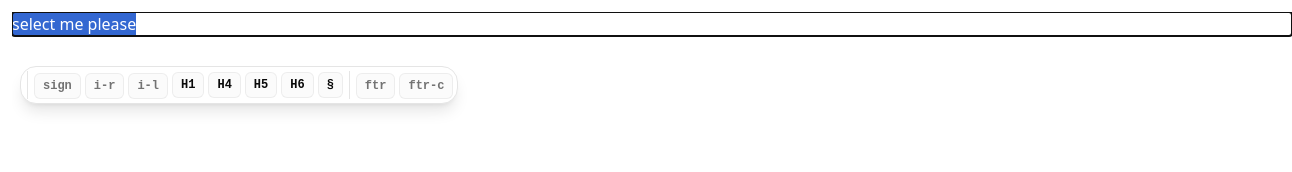
Test: EditorSelectionToolbar — вставка § та wrapper-маркери › клік по wrapper-кнопці (i-r) обгортає виділення парою маркерів у simple-режимі
This screenshot has width=1292, height=172.
Click the button "i-r" at (105, 86), box [85, 73, 124, 99]
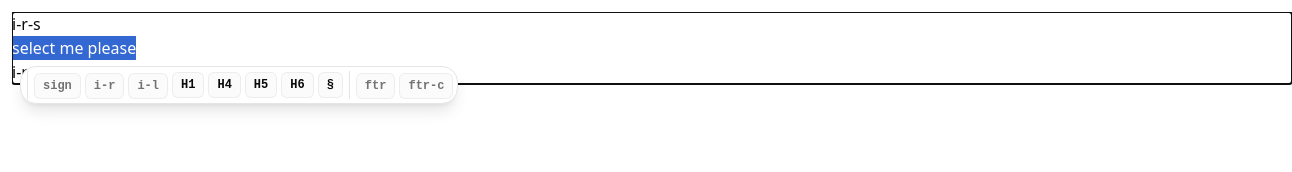
Now the text box with test id "editor" shows "i-r-s", box [12, 13, 136, 83]
Now the text box with test id "editor" shows "i-r-s-e", box [12, 13, 136, 83]
